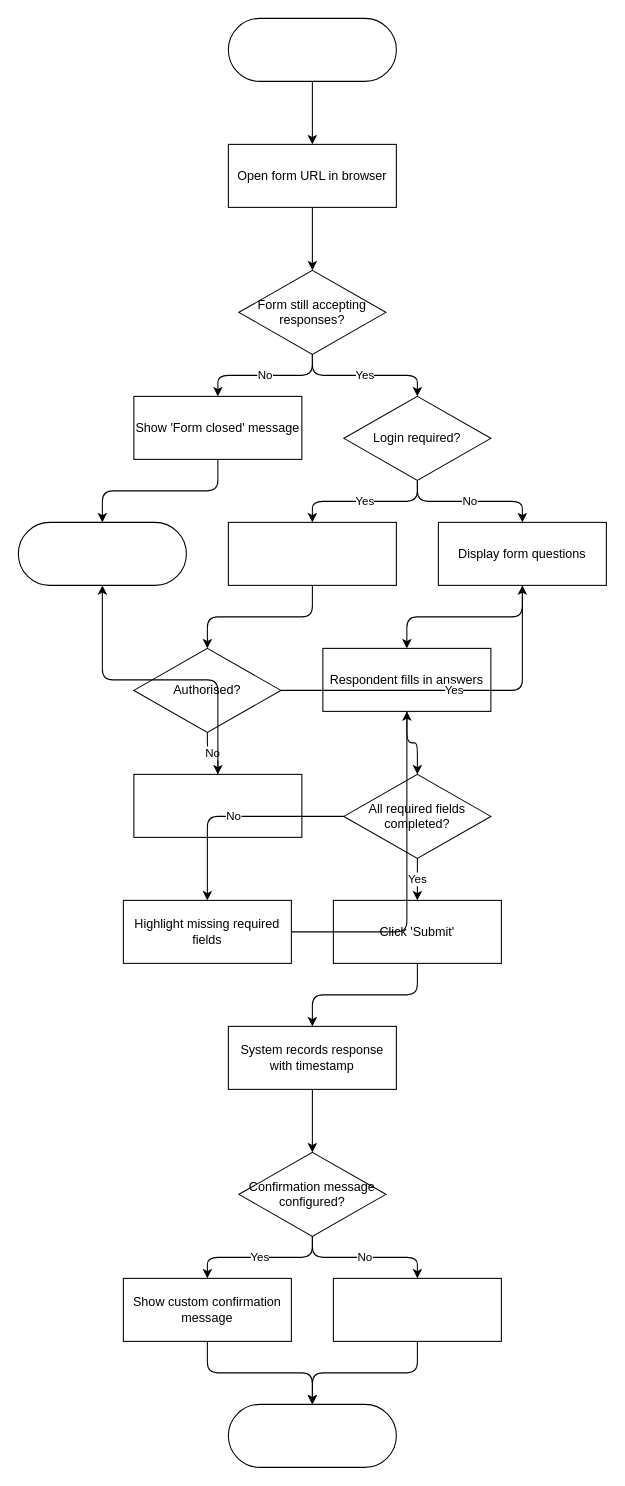
The diagram is 625 pixels wide and 1486 high, and some of its shapes have lost their labels. Each missing label, with the box of its shape:
End: (17, 521, 186, 585)
End – response recorded: (227, 1403, 396, 1467)
Prompt respondent to sign in: (227, 521, 396, 585)
Respondent receives / finds form link: (227, 17, 396, 81)
Show access-denied message: (133, 773, 302, 837)
Show default thank-you message: (332, 1277, 501, 1341)
